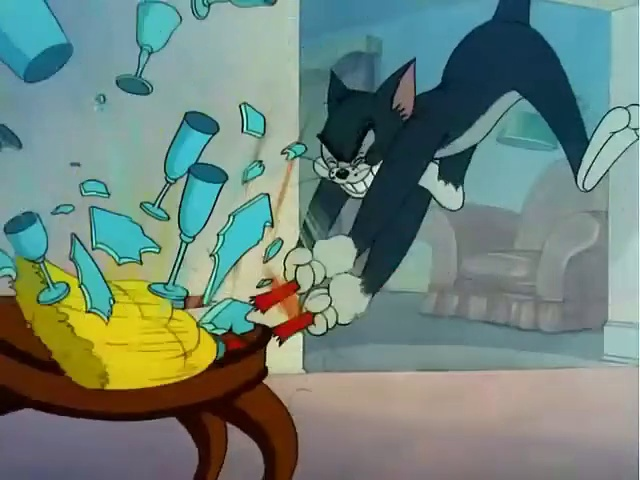tom: (277, 34, 640, 324)
